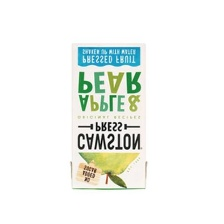carton: (63, 38, 156, 193)
